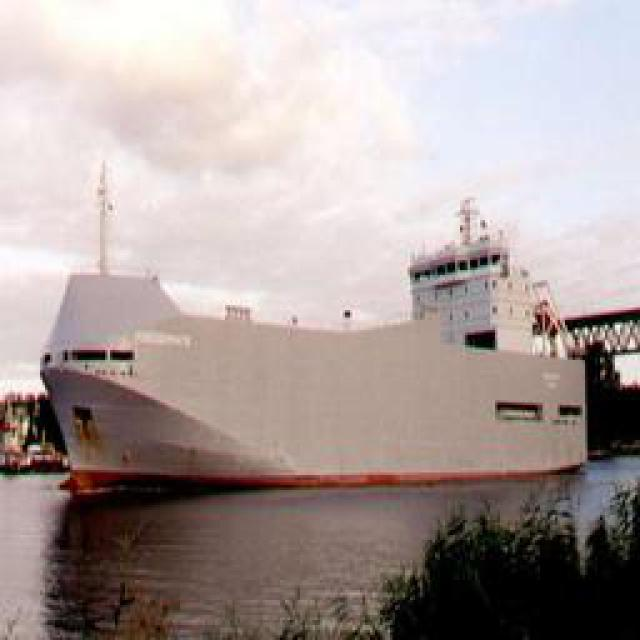Ship: (50, 206, 600, 484)
